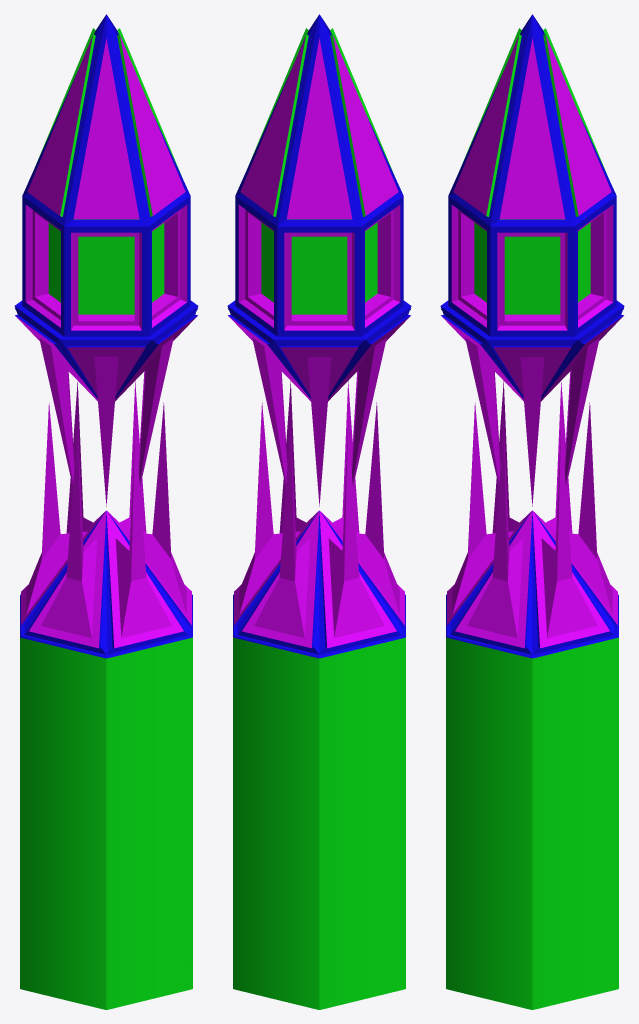
File: FloatingTowerV001.FBX
The picture shows the model from 3 angles, left to right: view 1: azimuth 30°, elevation 25°; view 2: azimuth 150°, elevation 25°; view 3: azimuth 270°, elevation 25°; orthographic projection.
Visible parts, largest first — view 1: Object115, Object117; view 2: Object115, Object117; view 3: Object115, Object117.
Boxes of the visible parts, x1,y1,x2,y2 form: Object115: (20,381,192,1009); Object117: (14,14,198,506); Object115: (233,381,405,1009); Object117: (227,14,411,506); Object115: (446,381,618,1009); Object117: (440,14,624,506).
Size of the model in its own units: 250 by 231 by 1322.
